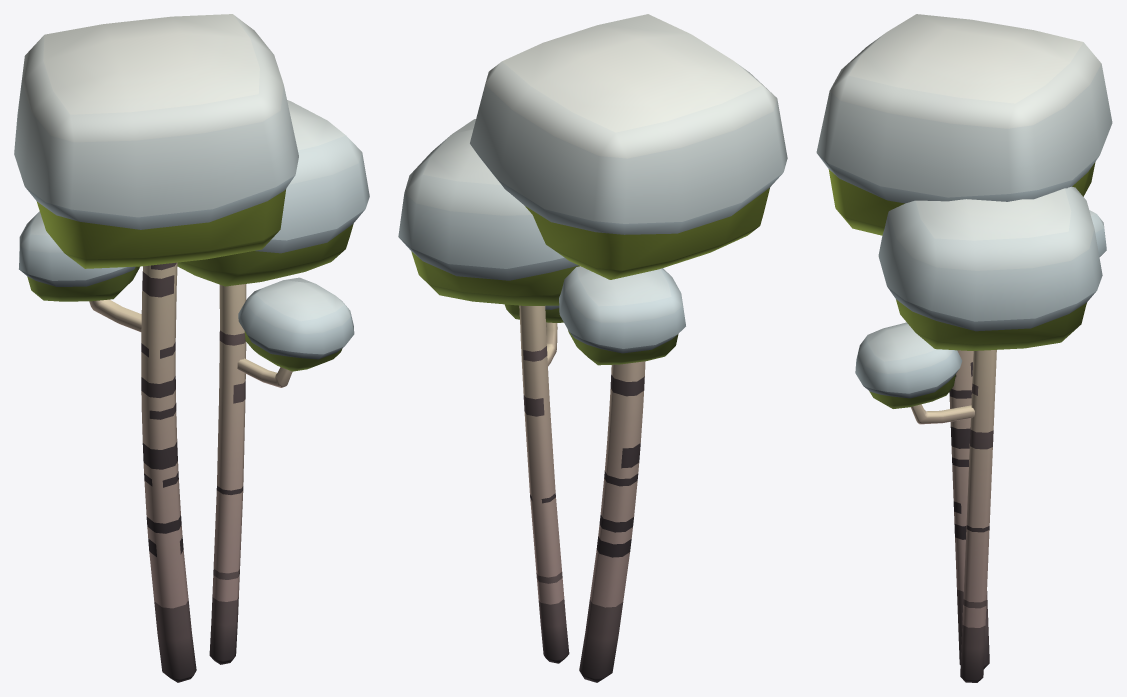
Rendered from birch_tree_col1_06_snow.fbx.
3 renders of one model, left to right at view 1: azimuth 30°, elevation 25°; view 2: azimuth 150°, elevation 25°; view 3: azimuth 270°, elevation 25°, orthographic. The views are drawn at different scales.
Visible parts, largest first — view 1: birch_tree_col1_06_snow; view 2: birch_tree_col1_06_snow; view 3: birch_tree_col1_06_snow.
Boxes of the visible parts, x1,y1,x2,y2 form: birch_tree_col1_06_snow: [14, 14, 369, 682]; birch_tree_col1_06_snow: [398, 14, 787, 682]; birch_tree_col1_06_snow: [816, 14, 1112, 682].
Bounding box in the file's own units: 389 × 709 × 313.
1 material, 1 textured.
